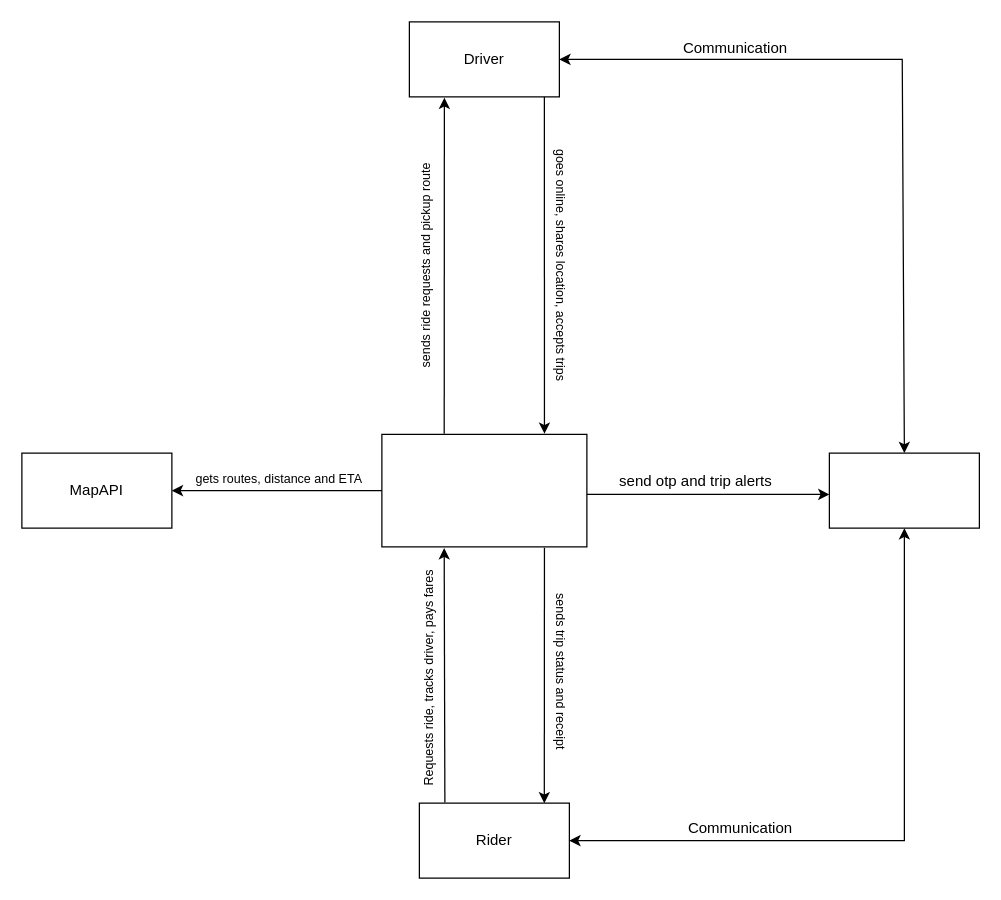
This 1001x900 diagram has some shape labels left out. Each missing label, with the box of its shape:
Ride-Sharing Platform lets riders book trips with nearby drivers and pay online: (381, 433, 587, 547)
SMS/Messaging Service: (828, 452, 979, 528)
